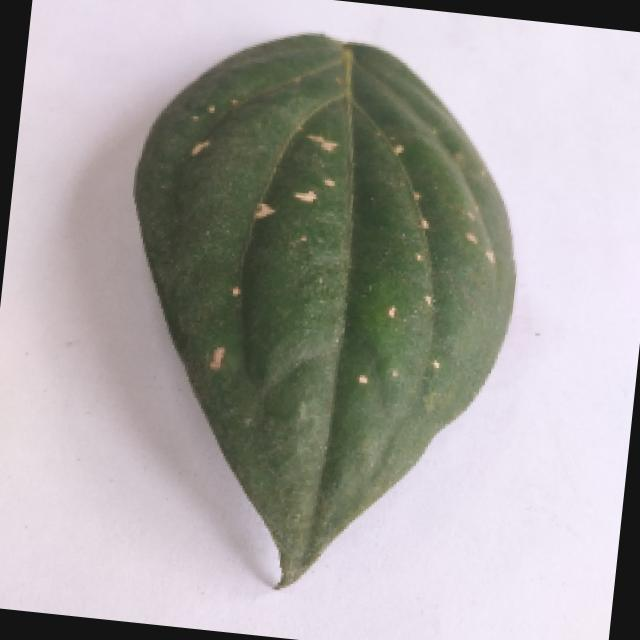pollu-disease: (55, 14, 566, 618)
